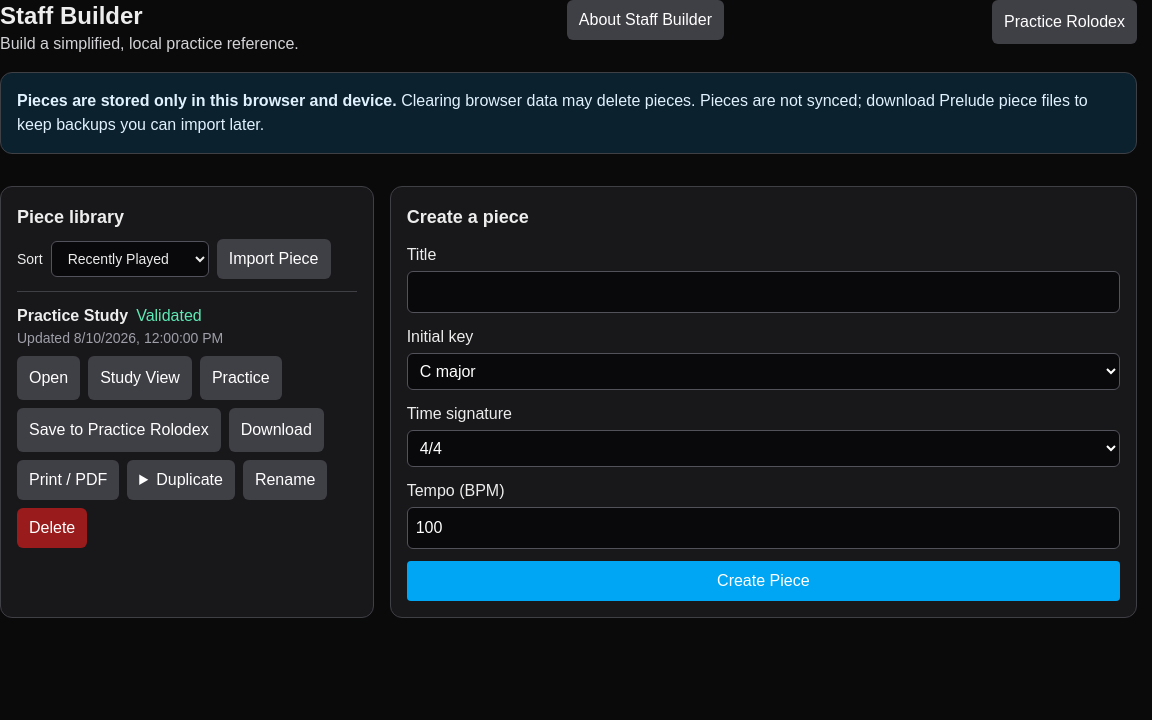
Test: Staff Builder session › saves the captured score JSON through native Save As without changing its library
This screenshot has width=1152, height=720.
Click the button with aria-label "Download Practice Study" at (276, 430), box [229,408,324,452]
(page scrolled)
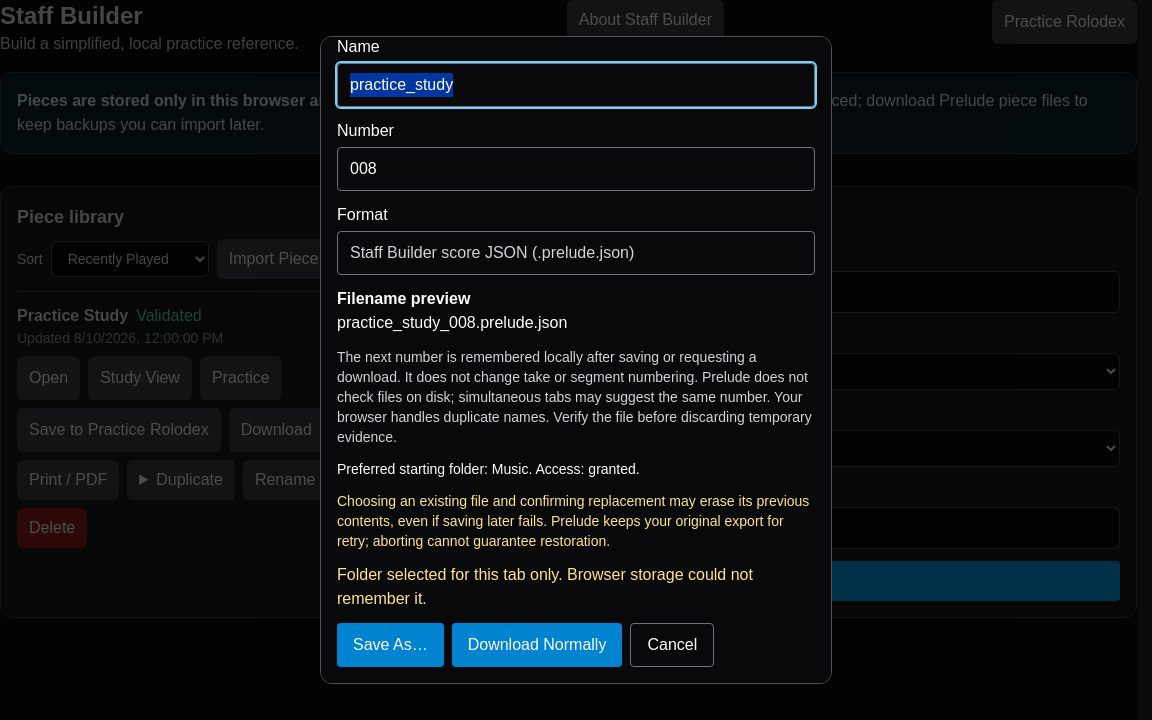
Click the button "Save As…" at (390, 645), box [337,623,444,667]
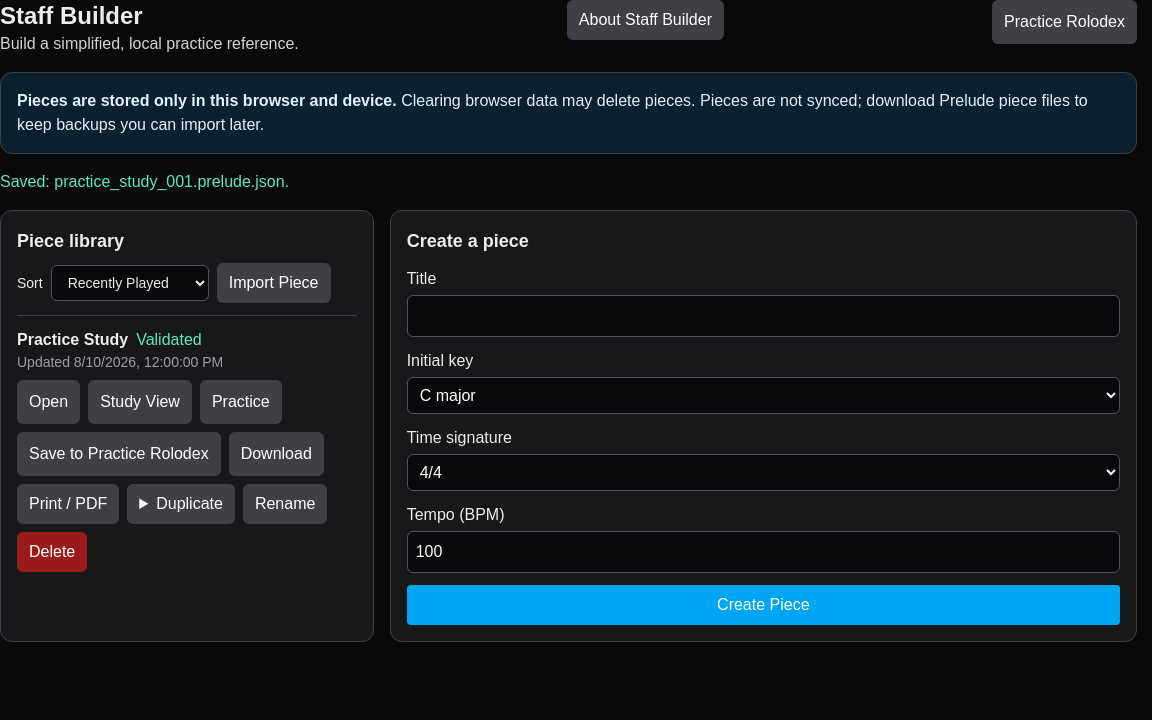
Now the text "Saved: practice_study_001.prelude.json." is shown, box [0,173,289,190]
